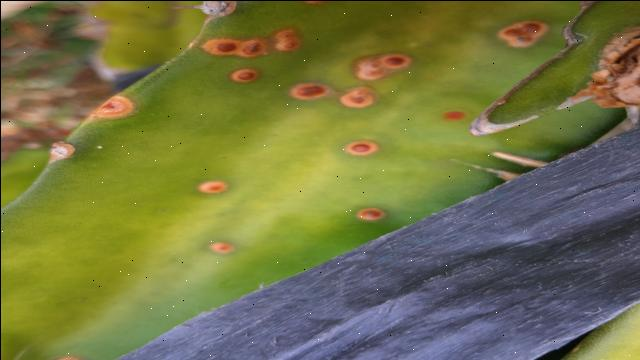stemcanker: (347, 49, 415, 83), (493, 14, 552, 53), (199, 34, 271, 60), (81, 92, 138, 123), (335, 84, 379, 113), (286, 80, 334, 105), (269, 24, 304, 54), (342, 136, 381, 160), (194, 178, 231, 198), (228, 66, 262, 87), (352, 206, 387, 224), (207, 239, 237, 258)
